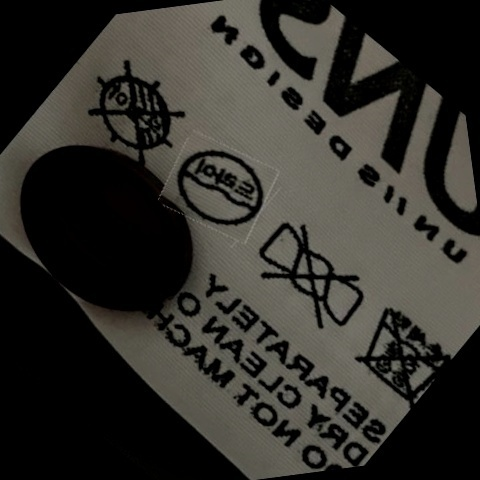DN_dry: (85, 61, 187, 165)
DN_wring: (253, 221, 369, 336)
dry_clean: (173, 140, 265, 236)
hand_wash: (351, 297, 448, 403)
